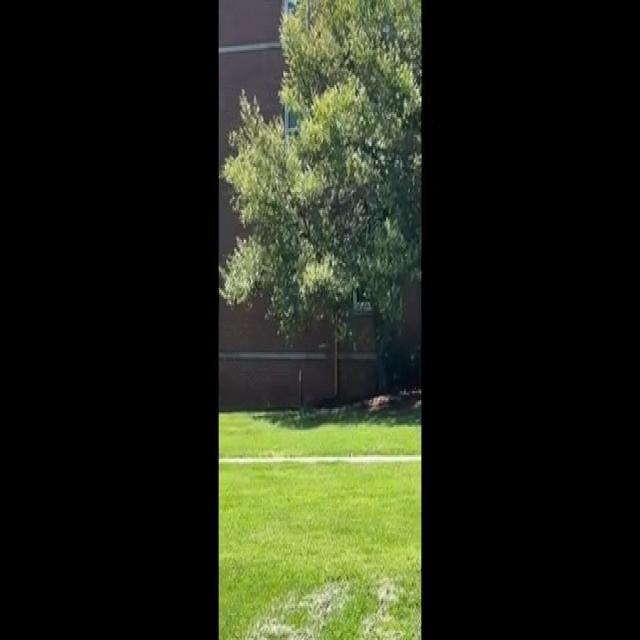drone: (314, 335, 334, 357)
